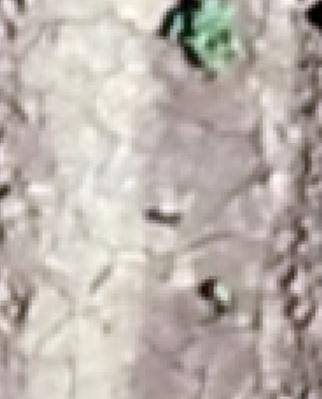cotton: (187, 32, 239, 73), (195, 1, 234, 29)
